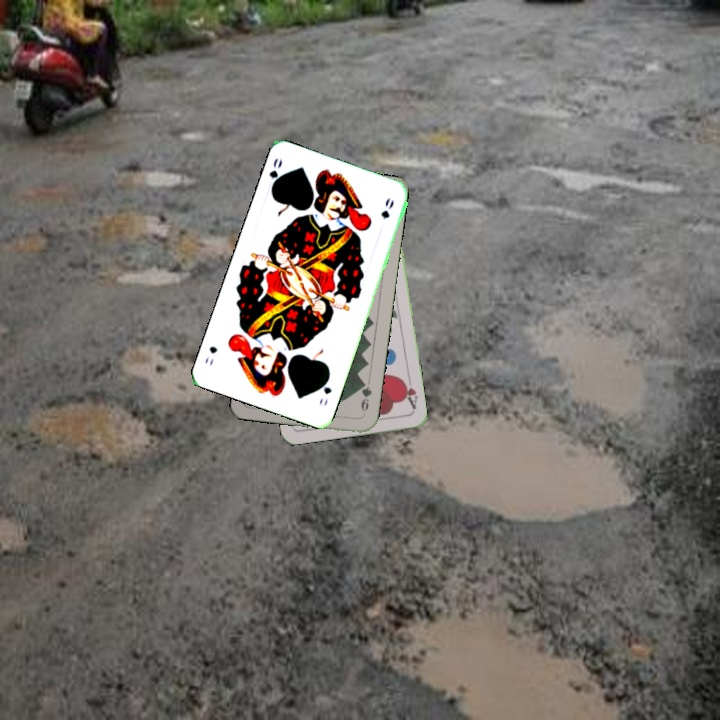G9: (357, 377, 374, 418)
GO: (265, 154, 286, 194), (315, 372, 334, 409)
HA: (398, 372, 420, 412)
